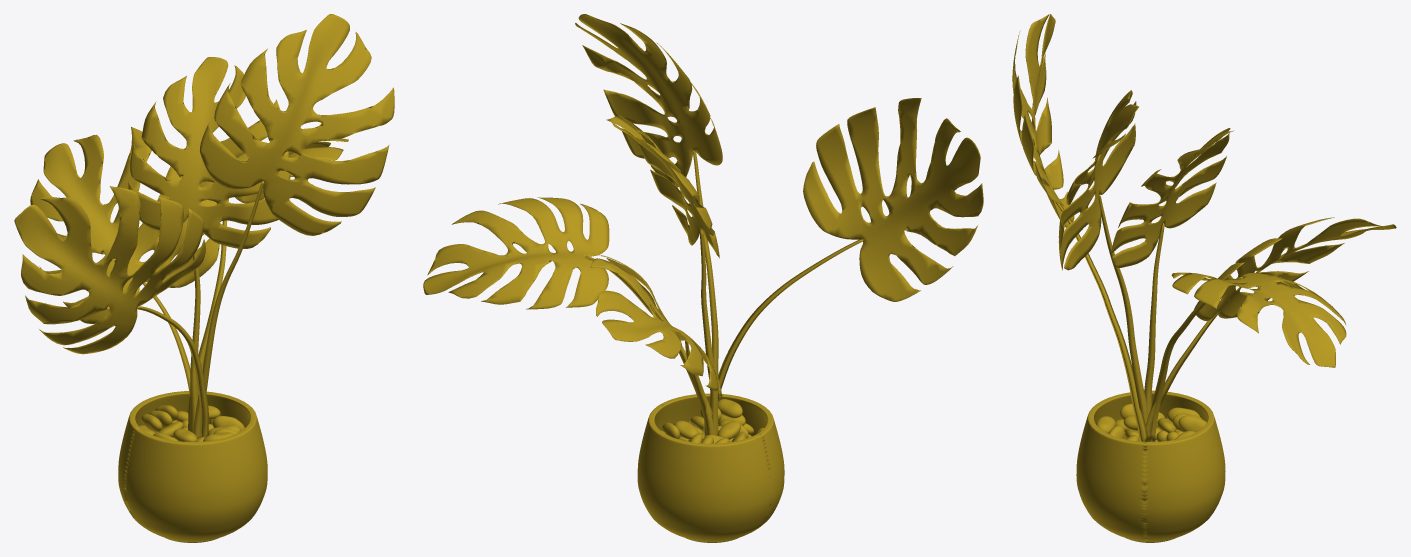
Rendered from flower.obj.
The picture shows the model from 3 angles, left to right: view 1: azimuth 30°, elevation 25°; view 2: azimuth 150°, elevation 25°; view 3: azimuth 270°, elevation 25°; orthographic projection.
Parts seen in each view (by area): view 1: home_flower; view 2: home_flower; view 3: home_flower.
Boxes of the visible parts, x1=… form: home_flower: x1=14, y1=14, x2=394, y2=542; home_flower: x1=423, y1=14, x2=983, y2=542; home_flower: x1=1012, y1=14, x2=1396, y2=542.
Size of the model in its own units: 23.38 by 24.87 by 17.87.
